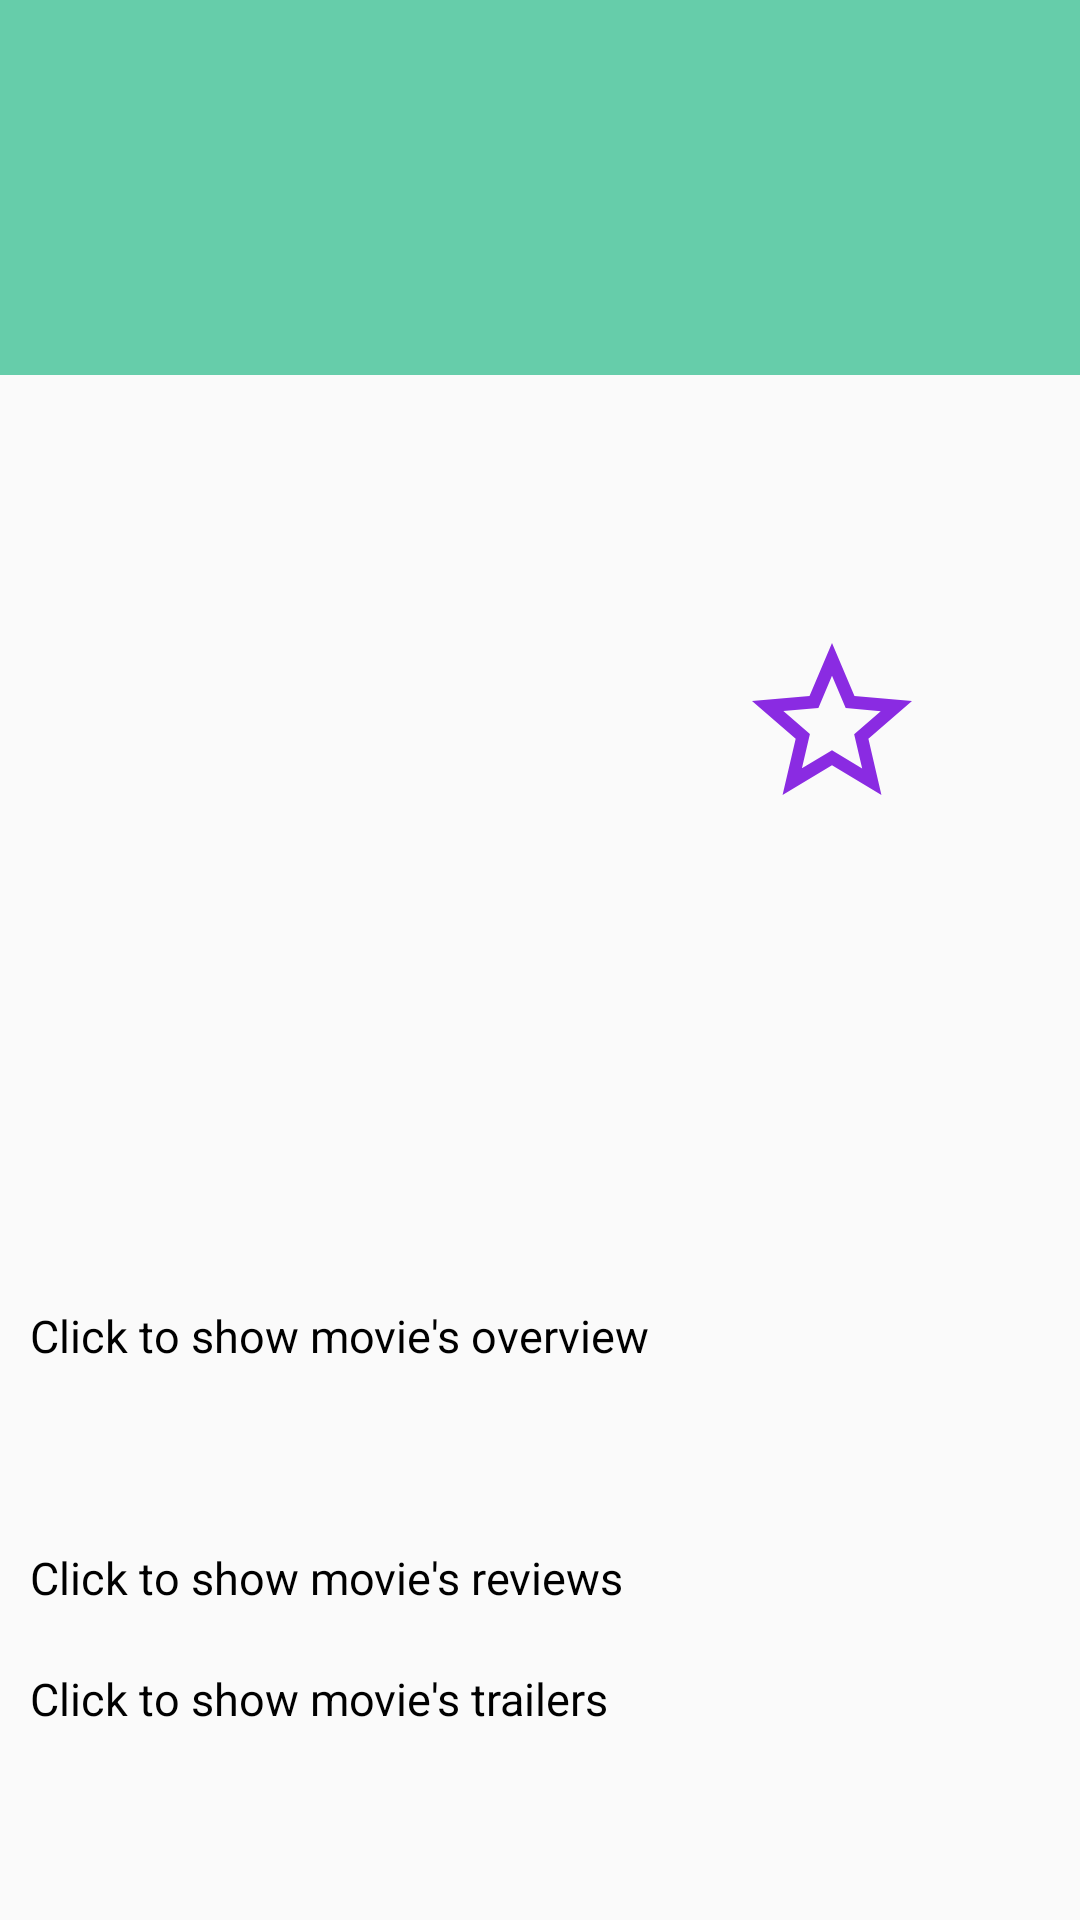

Icons on this 1080*1920 Android screen, each with the point to tap as (x=x, y=y):
star border: (x=832, y=719)
